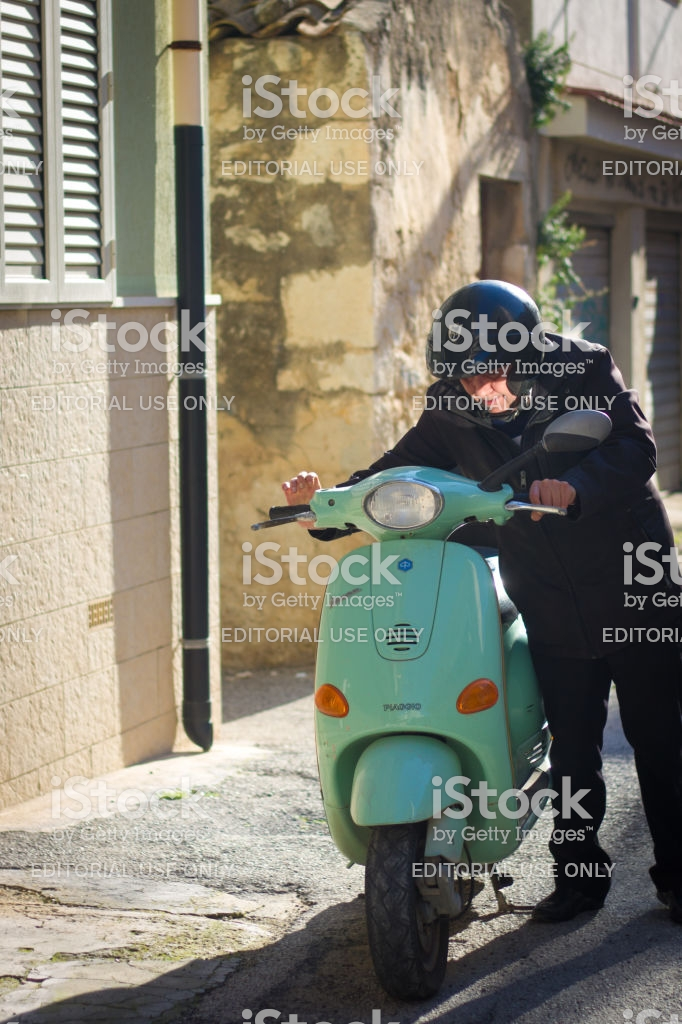helmet: (410, 282, 561, 370)
